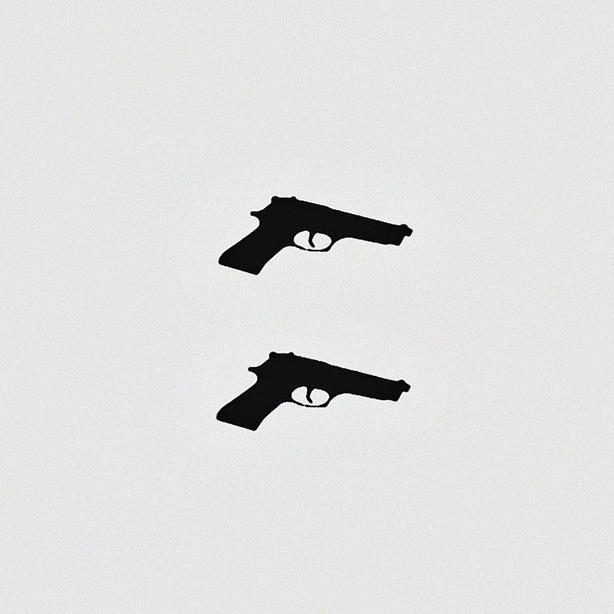Firearm: (213, 163, 426, 310), (207, 325, 427, 445)
